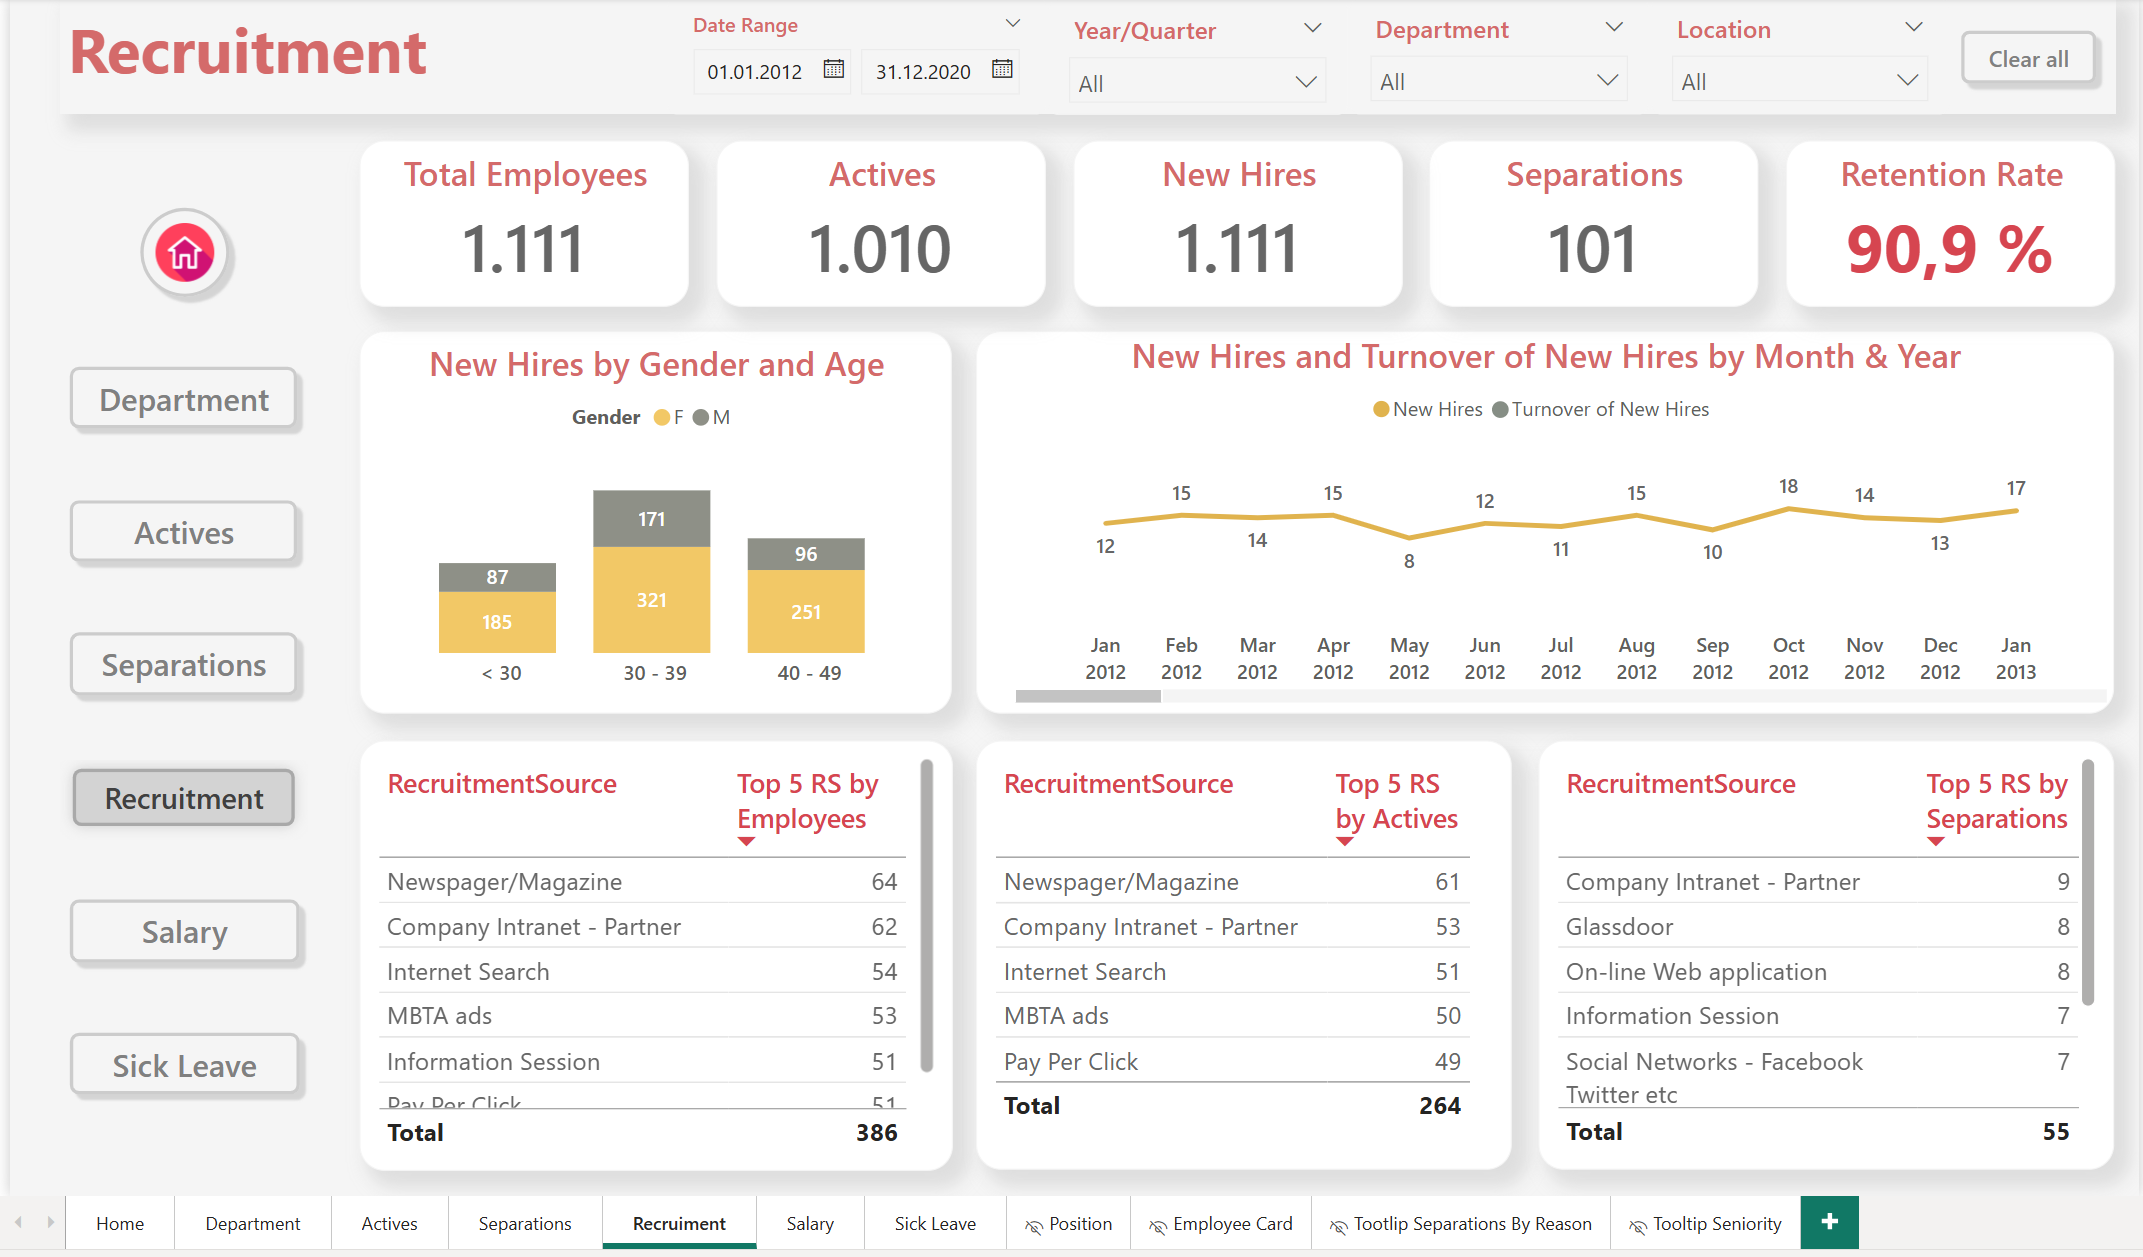

This screenshot's page, from the dashboard's own definition file:
{"tool":"powerbi","page":{"name":"Recruiment","canvas":[1280,720],"ordinal":4},"visuals":[{"type":"textbox","box":[29.7,0,1236,70.3],"z":0},{"type":"columnChart","title":"New Hires by Gender and Age","fields":{"Series":["Gender.Gender"],"Category":["Age Group.Age"],"Y":["Used Measures.New Hires"]},"box":[210.1,200.1,356.1,229.9],"z":1000},{"type":"lineChart","fields":{"Category":["Date.Month & Year"],"Y":["Used Measures.Hires","Recruitment Measures.Turnover of New Hires"]},"box":[580.6,200.1,684.2,229.9],"z":2000},{"type":"card","title":"Total Employees","fields":{"Values":["Cards.Total Employees Card"]},"box":[210.1,85.6,198.3,100.1],"z":3000},{"type":"tableEx","fields":{"Values":["RecruitmentSource.RecruitmentSource","Used Measures.Top 5 RS by Employees"]},"box":[210.1,446,357,258.7],"z":4000},{"type":"card","title":"Actives","fields":{"Values":["Used Measures.Total Employees"]},"box":[424.5,85.5,198.2,100],"z":5000},{"type":"card","title":"Separations","fields":{"Values":["Cards.Separations_Card"]},"box":[853.1,85.5,198.2,100],"z":6000},{"type":"card","title":"New Hires","fields":{"Values":["Cards.New Hires Card"]},"box":[638.9,85.5,198,100],"z":7000},{"type":"tableEx","fields":{"Values":["RecruitmentSource.RecruitmentSource","Used Measures.Top 5 RS by Actives"]},"box":[580.6,446.2,322,257.8],"z":8000},{"type":"tableEx","fields":{"Values":["RecruitmentSource.RecruitmentSource","Used Measures.Top 5 RS by Separations"]},"box":[919,446,346,258],"z":9000},{"type":"card","title":"Retention Rate","fields":{"Values":["Recruitment Measures.Retention Rate"]},"box":[1067.4,85.6,198.3,100.1],"z":10000},{"type":"actionButton","box":[29.7,295.3,149.7,49.6],"z":11000},{"type":"actionButton","box":[29.7,374.7,149.7,50.5],"z":12000},{"type":"actionButton","box":[29.7,615.7,150.6,49.6],"z":13000},{"type":"actionButton","box":[29.7,535.4,150.6,50.5],"z":14000},{"type":"actionButton","box":[29.7,455.1,149.7,50.5],"z":15000},{"type":"actionButton","box":[72,120,66,66],"z":16000},{"type":"actionButton","box":[29.7,215.9,149.7,49.6],"z":17000},{"type":"actionButton","box":[1166.6,13.5,93.8,44.2],"z":18000},{"type":"slicer","fields":{"Values":["Department.Name"]},"box":[805.1,0,180.3,70.3],"z":19000},{"type":"slicer","fields":{"Values":["Location.Region","Location.Continent","Location.CountryName"]},"box":[986.3,0,179.4,70.3],"z":20000},{"type":"slicer","fields":{"Values":["Date.DateKey"]},"box":[394.9,0,228.1,70.3],"z":21000},{"type":"slicer","fields":{"Values":["Date.Year","Date.QuarterName"]},"box":[623.8,0.9,180.3,69.4],"z":22000}]}

Visuals, with their boxes on the page's 1280x720 design canvas (x1, y1, x2, y2). These are canvas units, not pixel positions in the 2143x1257 screenshot, which may show the page scaled, cropped or inside an application window:
textbox: BBox(30, 0, 1266, 70)
"New Hires by Gender and Age" columnChart: BBox(210, 200, 566, 430)
lineChart - Date.Month & Year x Used Measures.Hires: BBox(581, 200, 1265, 430)
"Total Employees" card: BBox(210, 86, 408, 186)
tableEx - RecruitmentSource.RecruitmentSource x Used Measures.Top 5 RS by Employees: BBox(210, 446, 567, 705)
"Actives" card: BBox(424, 86, 623, 186)
"Separations" card: BBox(853, 86, 1051, 186)
"New Hires" card: BBox(639, 86, 837, 186)
tableEx - RecruitmentSource.RecruitmentSource x Used Measures.Top 5 RS by Actives: BBox(581, 446, 903, 704)
tableEx - RecruitmentSource.RecruitmentSource x Used Measures.Top 5 RS by Separations: BBox(919, 446, 1265, 704)
"Retention Rate" card: BBox(1067, 86, 1266, 186)
actionButton: BBox(30, 295, 179, 345)
actionButton: BBox(30, 375, 179, 425)
actionButton: BBox(30, 616, 180, 665)
actionButton: BBox(30, 535, 180, 586)
actionButton: BBox(30, 455, 179, 506)
actionButton: BBox(72, 120, 138, 186)
actionButton: BBox(30, 216, 179, 266)
actionButton: BBox(1167, 14, 1260, 58)
slicer - Department.Name: BBox(805, 0, 985, 70)
slicer - Location.Region x Location.Continent: BBox(986, 0, 1166, 70)
slicer - Date.DateKey: BBox(395, 0, 623, 70)
slicer - Date.Year x Date.QuarterName: BBox(624, 1, 804, 70)
